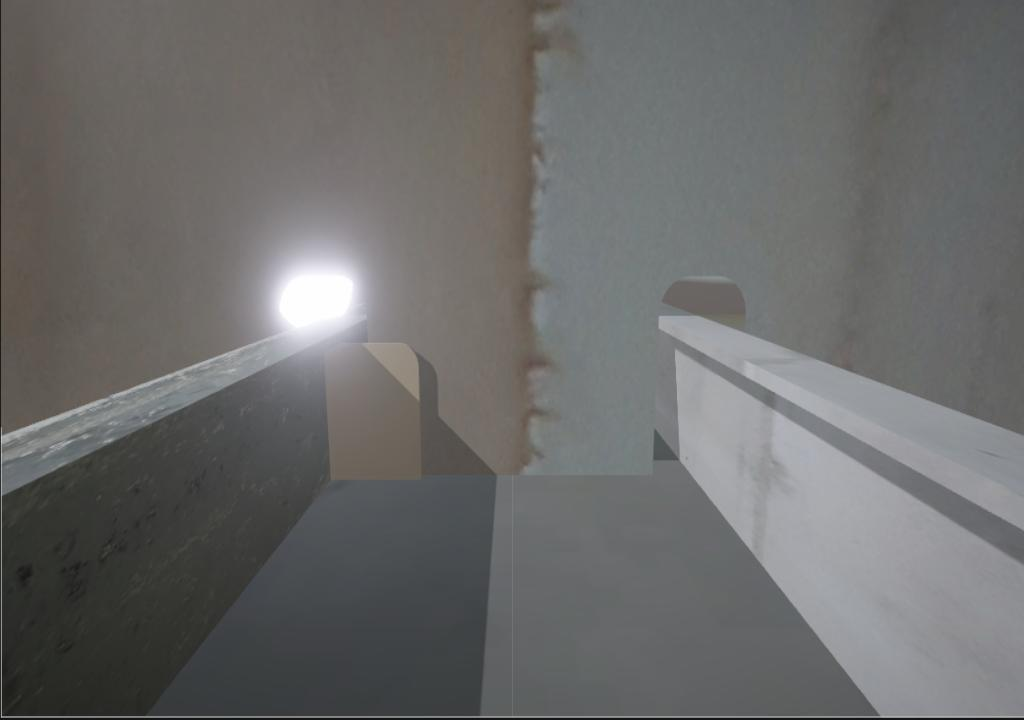fillet_yong_jeop_jang: (420, 468, 664, 484)
plate_CP05: (323, 342, 423, 482)
